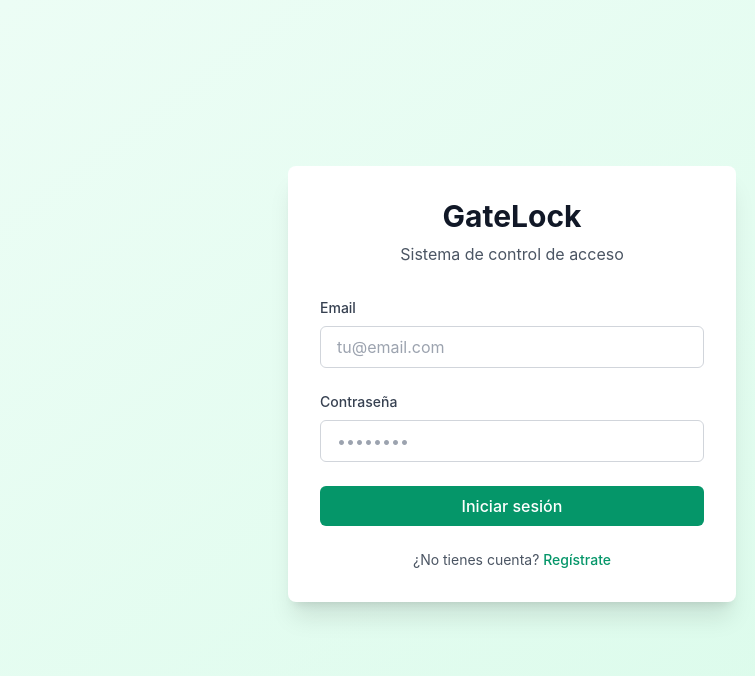
LoginPage › shows error message on login failure
// Fill form
In the field labelled "Email": (512, 347) [320,326,704,368], type "test@example.com"
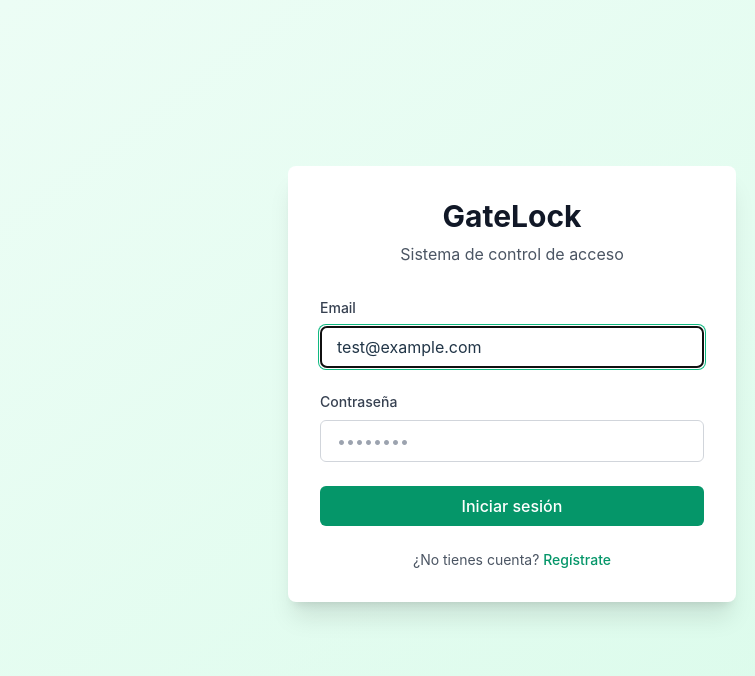
In the password field labelled "Contraseña": (512, 441) [320,420,704,462], type "wrong-password"
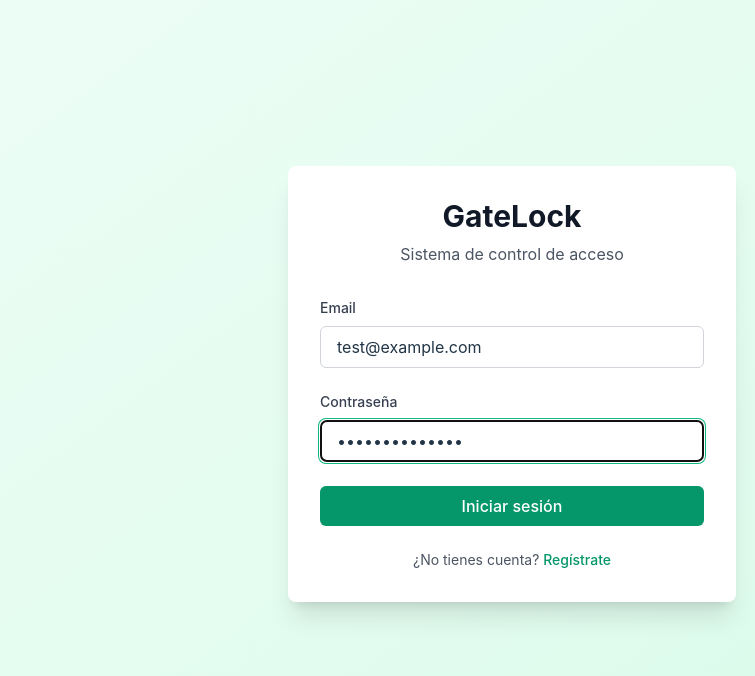
// Submit form
Click the button "Iniciar sesión": (512, 506) [320,486,704,526]
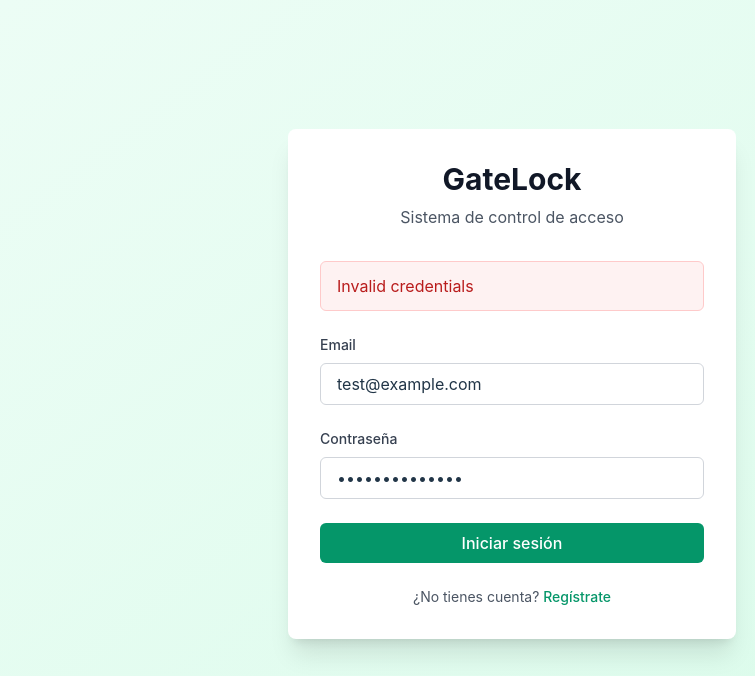
Result: the text "Invalid credentials" is shown at [320,261,704,311]
